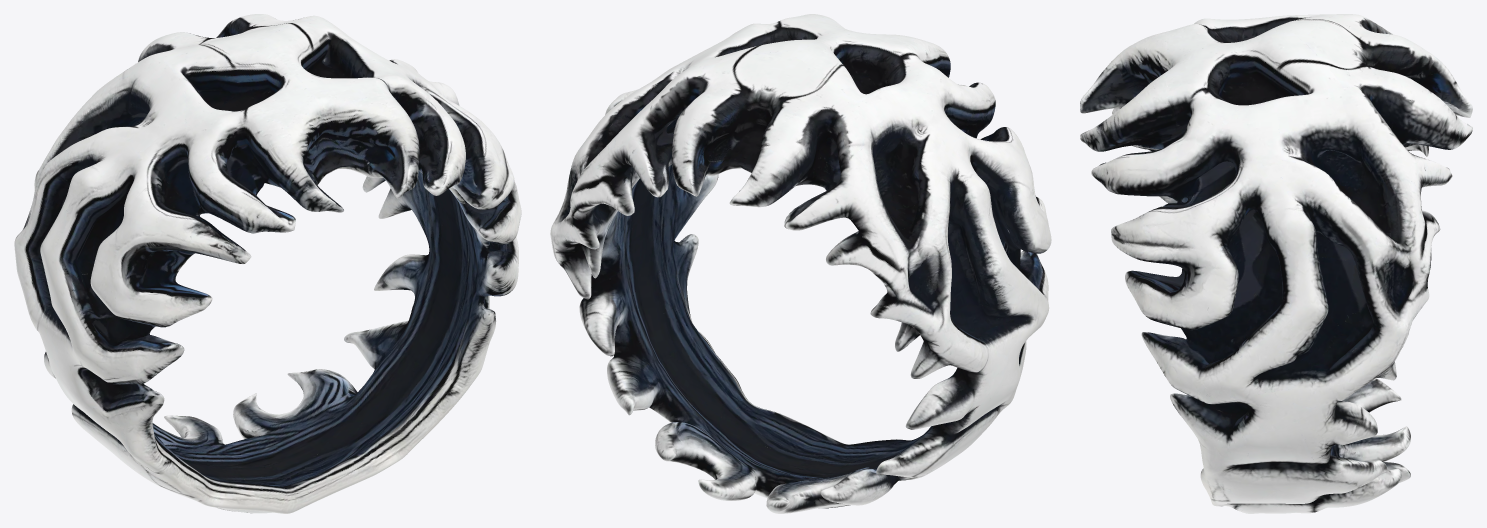
The model's file is silver.glb.
The picture shows the model from 3 angles, left to right: view 1: azimuth 30°, elevation 25°; view 2: azimuth 150°, elevation 25°; view 3: azimuth 270°, elevation 25°; orthographic projection. The views are drawn at different scales.
Visible parts, largest first — view 1: Mesh_0.001; view 2: Mesh_0.001; view 3: Mesh_0.001.
Part boxes in pixels (left/top/right/bottom): Mesh_0.001: left=14, top=14, right=521, bottom=513; Mesh_0.001: left=550, top=14, right=1051, bottom=513; Mesh_0.001: left=1080, top=14, right=1472, bottom=513.
Bounding box in the file's own units: 0.0221 × 0.022 × 0.0169.
1 material, 1 textured.
